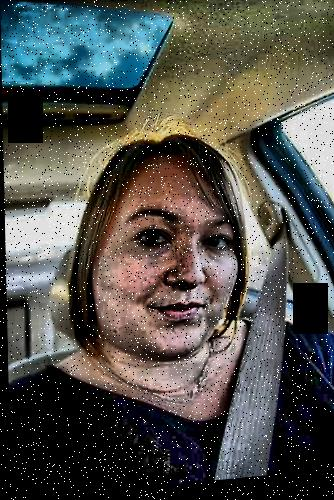seatbelt: (195, 227, 304, 448)
